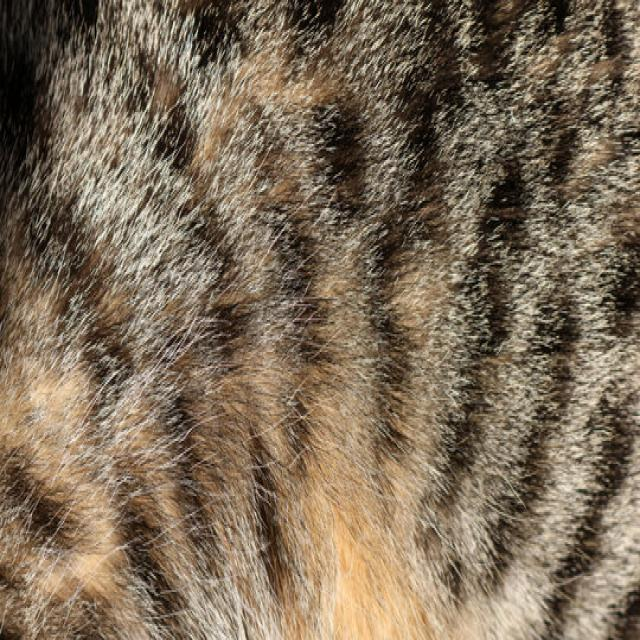Healthy skin: (312, 5, 629, 632), (0, 0, 309, 316), (19, 327, 266, 585)
